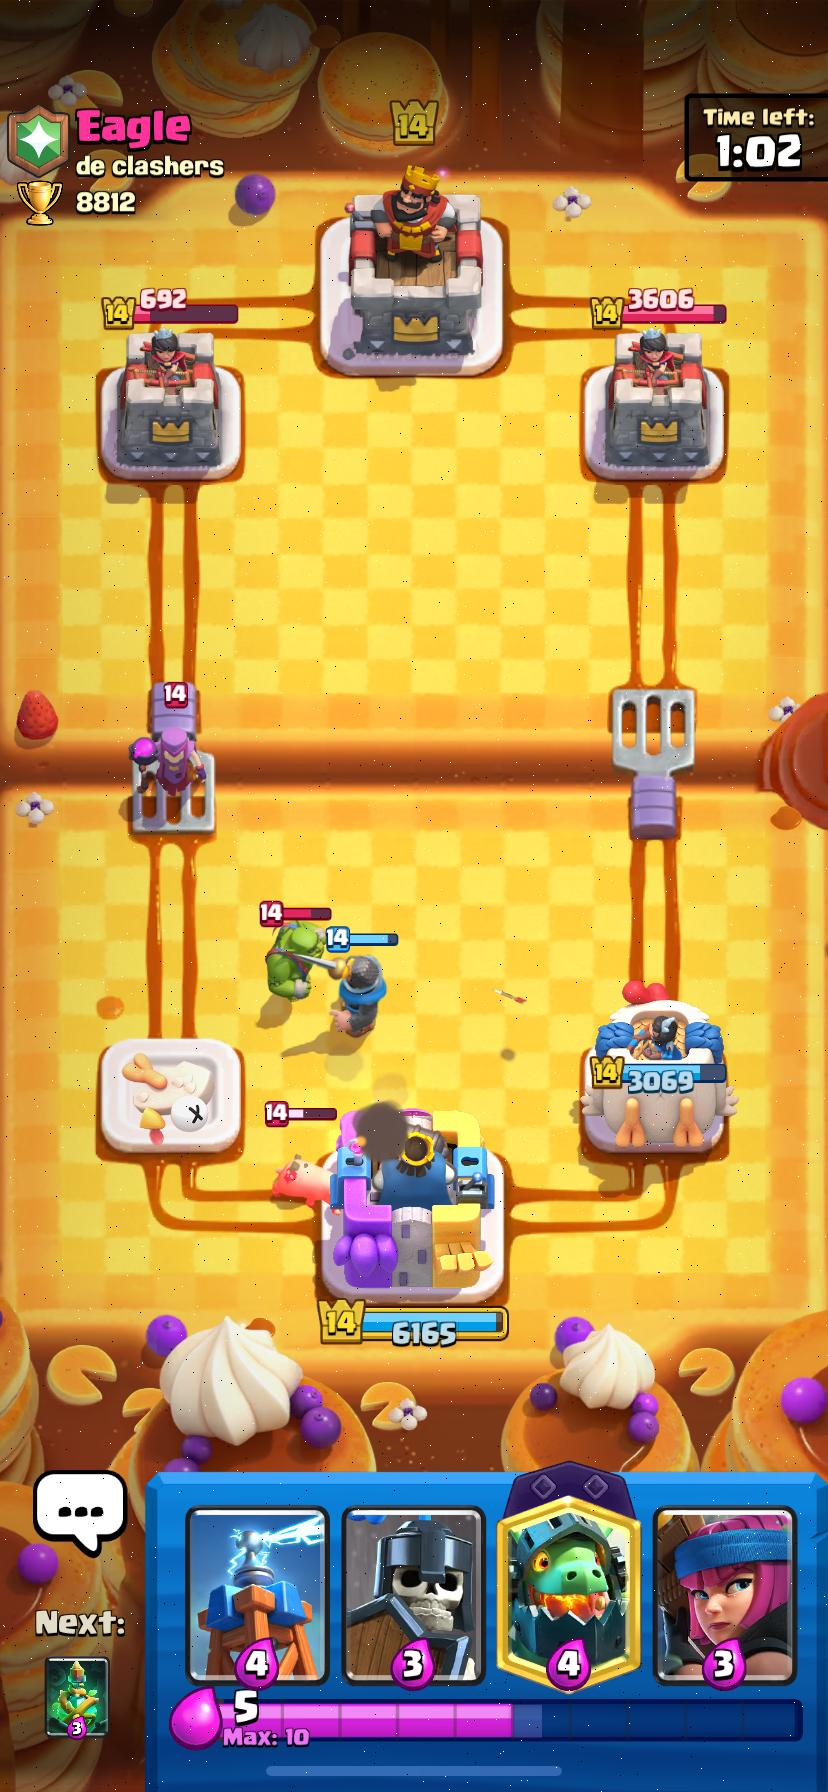EBrawler: (266, 920, 324, 1001)
EHog: (271, 1157, 331, 1207)
EKingTower: (328, 167, 502, 375)
EMotherWitch: (130, 727, 206, 801)
EnemyPrincessTower: (101, 327, 240, 480), (586, 329, 723, 479)
OKnight: (331, 954, 387, 1037)
OwnKingTower: (323, 1109, 503, 1307)
OwnPrincessTower: (580, 987, 737, 1151)
TowerDown: (99, 1037, 244, 1157)
